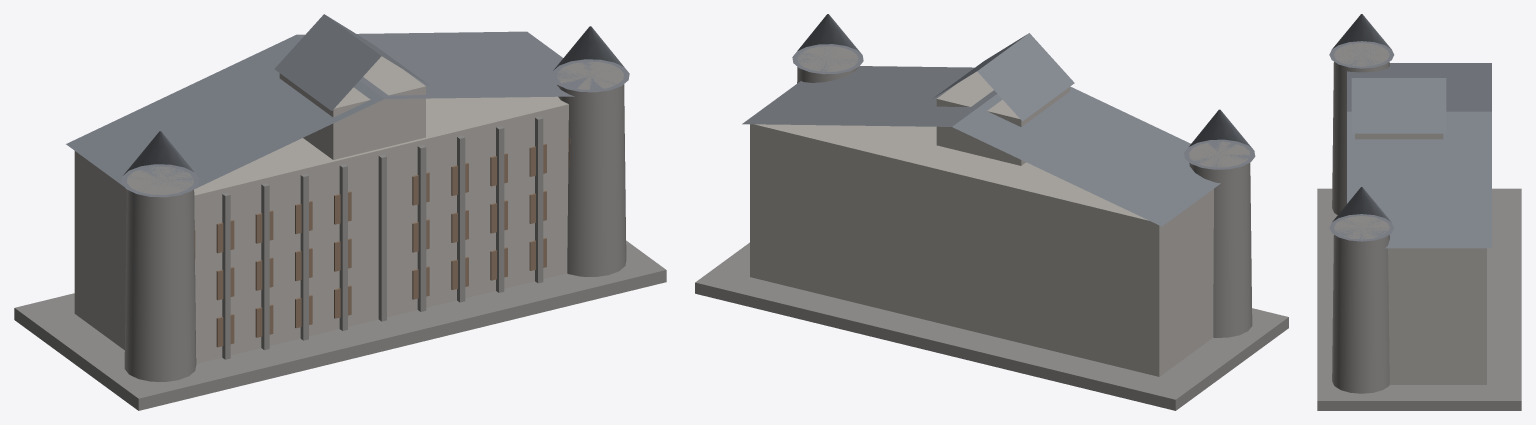
The model's file is lm_66_phan_vien_sinh_hoc_tay_nguyen_1950.glb.
3 views of the same model, side by side, from view 1: azimuth 30°, elevation 25°; view 2: azimuth 150°, elevation 25°; view 3: azimuth 270°, elevation 25° (orthographic). The views are drawn at different scales.
Visible parts, largest first — view 1: lm_66_phan_vien_sinh_hoc_tay_nguyen_1950; view 2: lm_66_phan_vien_sinh_hoc_tay_nguyen_1950; view 3: lm_66_phan_vien_sinh_hoc_tay_nguyen_1950.
Part boxes in pixels (x1,y1,x2,y2): lm_66_phan_vien_sinh_hoc_tay_nguyen_1950: [14, 14, 666, 410]; lm_66_phan_vien_sinh_hoc_tay_nguyen_1950: [695, 14, 1288, 410]; lm_66_phan_vien_sinh_hoc_tay_nguyen_1950: [1317, 14, 1521, 410].
Bounding box in the file's own units: 54 × 26.9 × 22.
